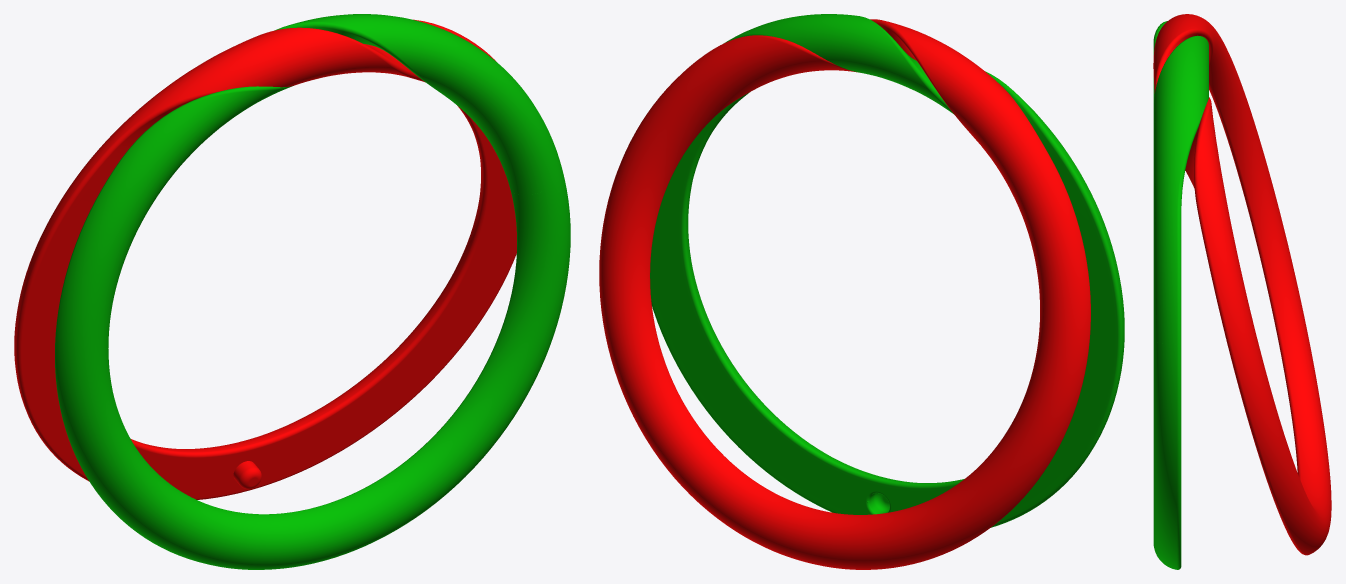
3 renders of one model, left to right at view 1: azimuth 30°, elevation 25°; view 2: azimuth 150°, elevation 25°; view 3: azimuth 270°, elevation 25°, orthographic. The views are drawn at different scales.
Parts seen in each view (by area): view 1: AN torcido 2mm render.3dm; view 2: AN torcido 2mm render.3dm; view 3: AN torcido 2mm render.3dm.
Part boxes in pixels (x1,y1,x2,y2): AN torcido 2mm render.3dm: (14,14,570,569); AN torcido 2mm render.3dm: (599,14,1124,569); AN torcido 2mm render.3dm: (1153,14,1331,569).
Bounding box in the file's own units: 2.76 × 2.76 × 0.8848.
